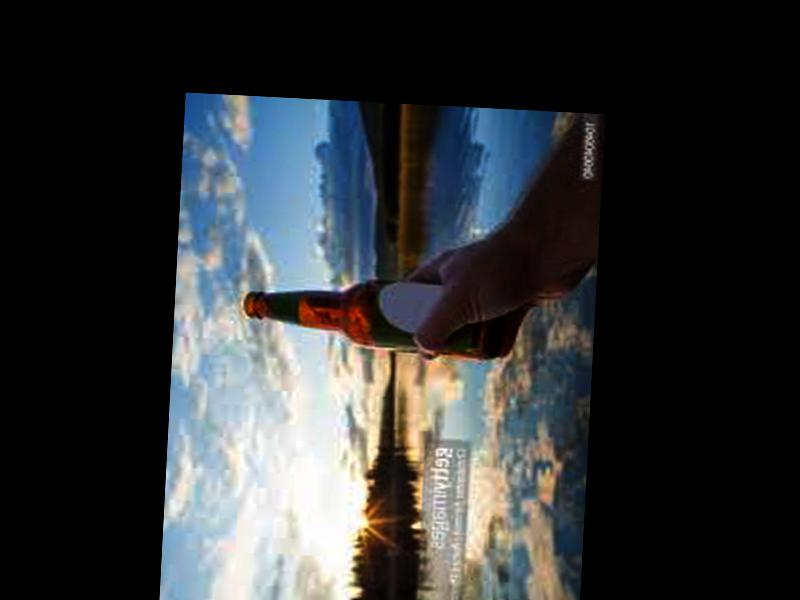Beer: (239, 271, 502, 363)
